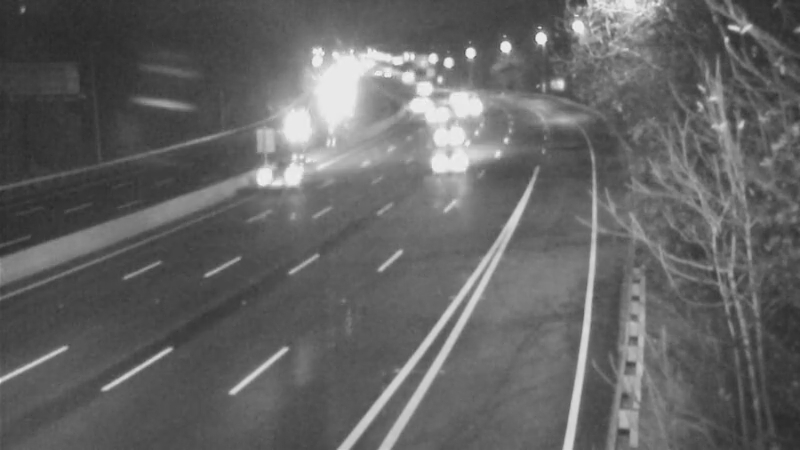vehicle: (417, 116, 497, 196), (248, 135, 328, 215), (395, 76, 445, 126), (437, 86, 487, 136), (406, 91, 456, 141), (420, 109, 470, 159), (278, 101, 328, 151)
